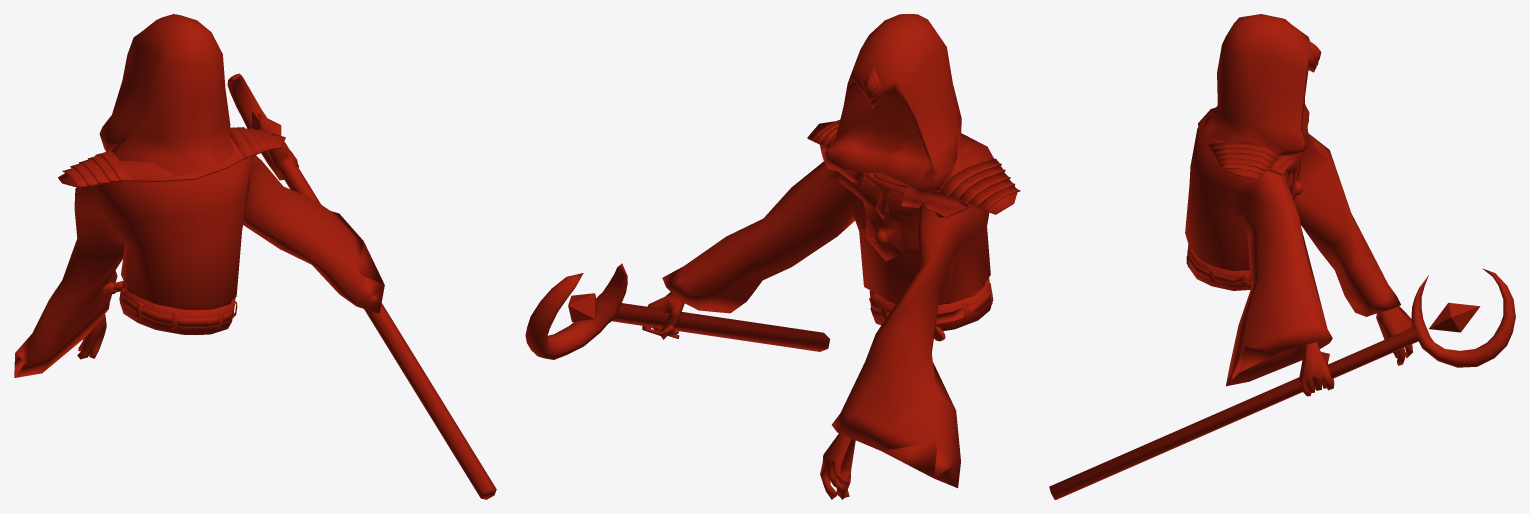
The model's file is top_000159.obj.
3 views of the same model, side by side, from view 1: azimuth 30°, elevation 25°; view 2: azimuth 150°, elevation 25°; view 3: azimuth 270°, elevation 25° (orthographic). The views are drawn at different scales.
Parts seen in each view (by area): view 1: LowPoly_Warlock.000_Plane.005; view 2: LowPoly_Warlock.000_Plane.005; view 3: LowPoly_Warlock.000_Plane.005.
Boxes of the visible parts, <box> form: LowPoly_Warlock.000_Plane.005: <box>14,14,496,499</box>; LowPoly_Warlock.000_Plane.005: <box>525,14,1020,499</box>; LowPoly_Warlock.000_Plane.005: <box>1049,14,1515,499</box>.
Bounding box in the file's own units: 1.31 × 1.65 × 1.75.
